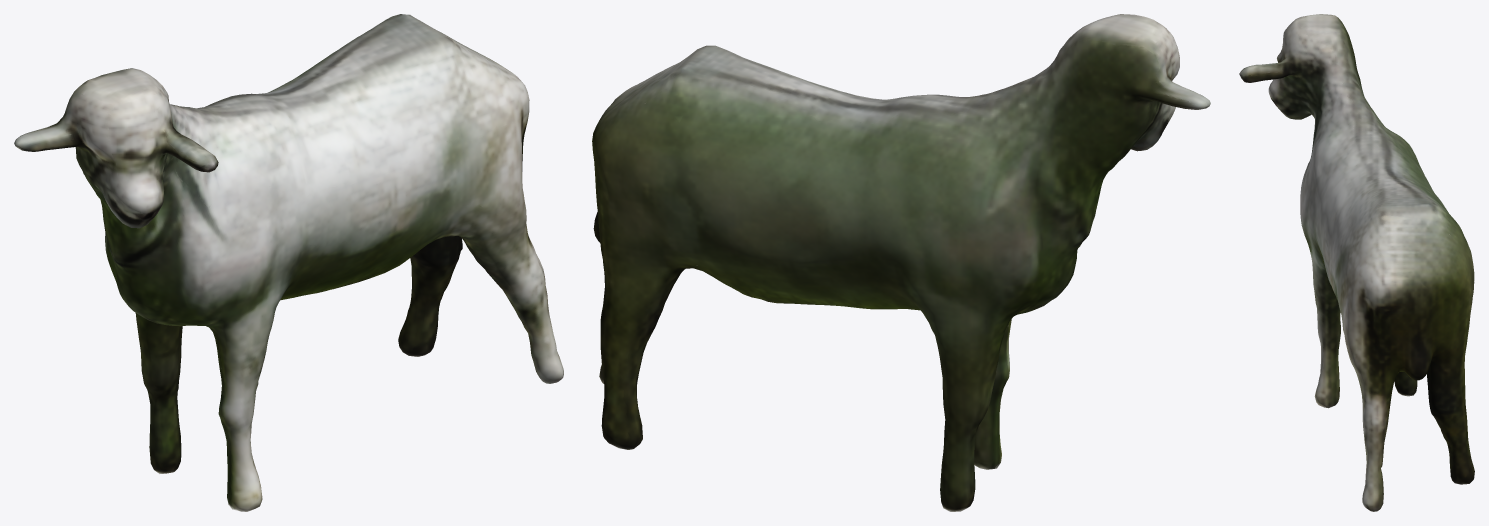
File: adulto.glb
3 renders of one model, left to right at view 1: azimuth 30°, elevation 25°; view 2: azimuth 150°, elevation 25°; view 3: azimuth 270°, elevation 25°, orthographic. The views are drawn at different scales.
Parts seen in each view (by area): view 1: mesh; view 2: mesh; view 3: mesh.
Boxes of the visible parts, box(x1,y1,x2,y2) form: mesh: box(14, 14, 563, 511); mesh: box(592, 14, 1210, 511); mesh: box(1239, 14, 1474, 511).
Size of the model in its own units: 1.65 by 1.27 by 0.8058.
Materials: 1 (1 with a texture image).
